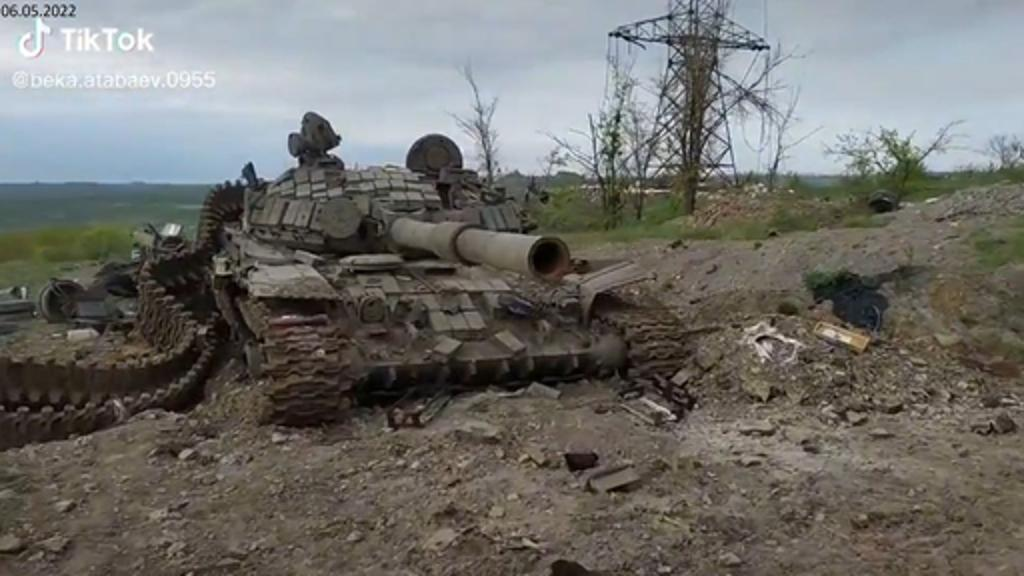TANK: (168, 102, 650, 426)
